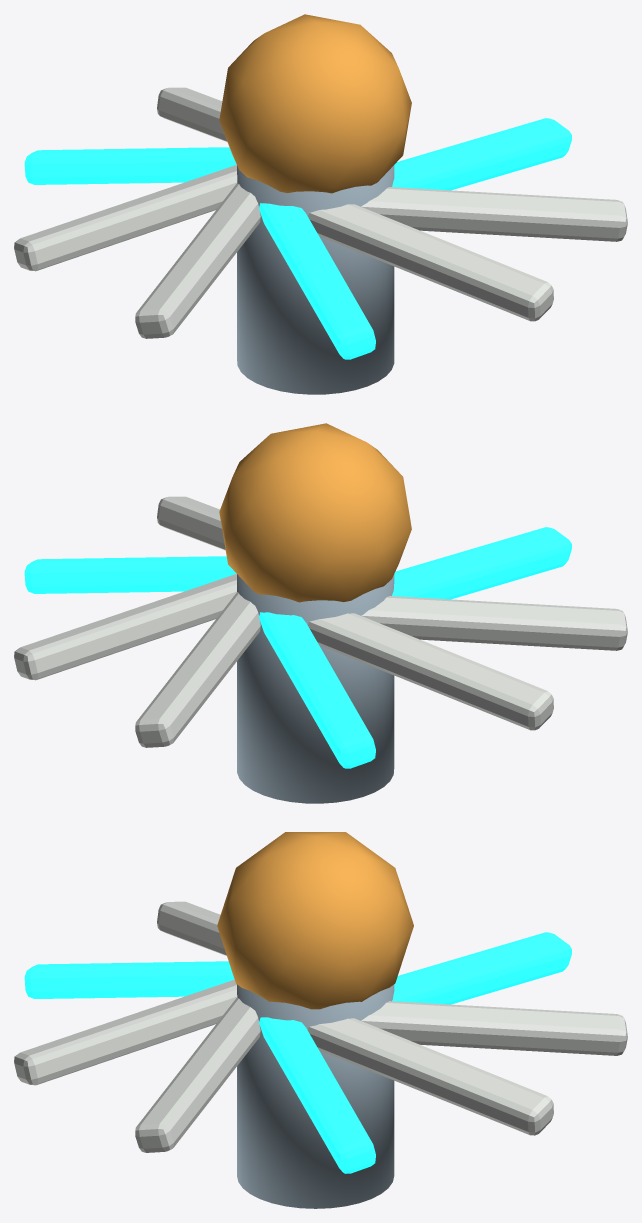
Rendered from turbine.glb.
3 renders of one model, top to bottom at view 1: azimuth 30°, elevation 25°; view 2: azimuth 150°, elevation 25°; view 3: azimuth 270°, elevation 25°, orthographic.
Visible parts, largest first — view 1: Turbine cap, Turbine spindle, Turbine blade 7, Turbine blade 8, Turbine blade 4, Turbine blade 5, Turbine blade 0, Turbine blade 6, Turbine blade 3, Turbine blade 2; view 2: Turbine cap, Turbine spindle, Turbine blade 4, Turbine blade 5, Turbine blade 1, Turbine blade 2, Turbine blade 6, Turbine blade 3, Turbine blade 0, Turbine blade 8; view 3: Turbine cap, Turbine spindle, Turbine blade 1, Turbine blade 2, Turbine blade 7, Turbine blade 8, Turbine blade 3, Turbine blade 0, Turbine blade 6, Turbine blade 5.
Part boxes in pixels (x1,y1,x2,y2): Turbine cap: [219, 14, 411, 193]; Turbine spindle: [237, 165, 394, 394]; Turbine blade 7: [308, 204, 553, 321]; Turbine blade 8: [361, 187, 627, 241]; Turbine blade 4: [14, 165, 237, 271]; Turbine blade 5: [135, 183, 260, 338]; Turbine blade 0: [392, 118, 571, 190]; Turbine blade 6: [259, 203, 375, 359]; Turbine blade 3: [24, 147, 236, 184]; Turbine blade 2: [157, 87, 227, 141]; Turbine cap: [219, 423, 411, 602]; Turbine spindle: [237, 574, 394, 803]; Turbine blade 4: [308, 613, 553, 730]; Turbine blade 5: [361, 596, 627, 650]; Turbine blade 1: [14, 574, 236, 680]; Turbine blade 2: [135, 592, 260, 747]; Turbine blade 6: [392, 527, 571, 599]; Turbine blade 3: [259, 612, 375, 768]; Turbine blade 0: [24, 556, 236, 593]; Turbine blade 8: [157, 496, 225, 550]; Turbine cap: [217, 832, 413, 1009]; Turbine spindle: [237, 984, 394, 1208]; Turbine blade 1: [307, 1018, 553, 1135]; Turbine blade 2: [361, 1001, 627, 1055]; Turbine blade 7: [14, 979, 237, 1085]; Turbine blade 8: [135, 997, 260, 1152]; Turbine blade 3: [392, 932, 571, 1004]; Turbine blade 0: [259, 1017, 375, 1173]; Turbine blade 6: [24, 961, 234, 998]; Turbine blade 5: [157, 901, 226, 955].
Size of the model in its own units: 3.13 by 1.9 by 3.12.
